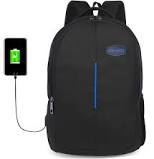bag: (43, 1, 149, 159)
